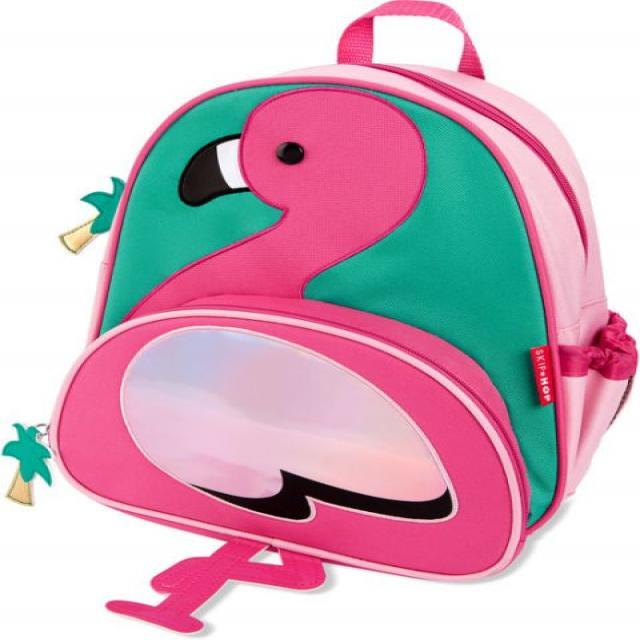Backpacks: (46, 5, 634, 583)
